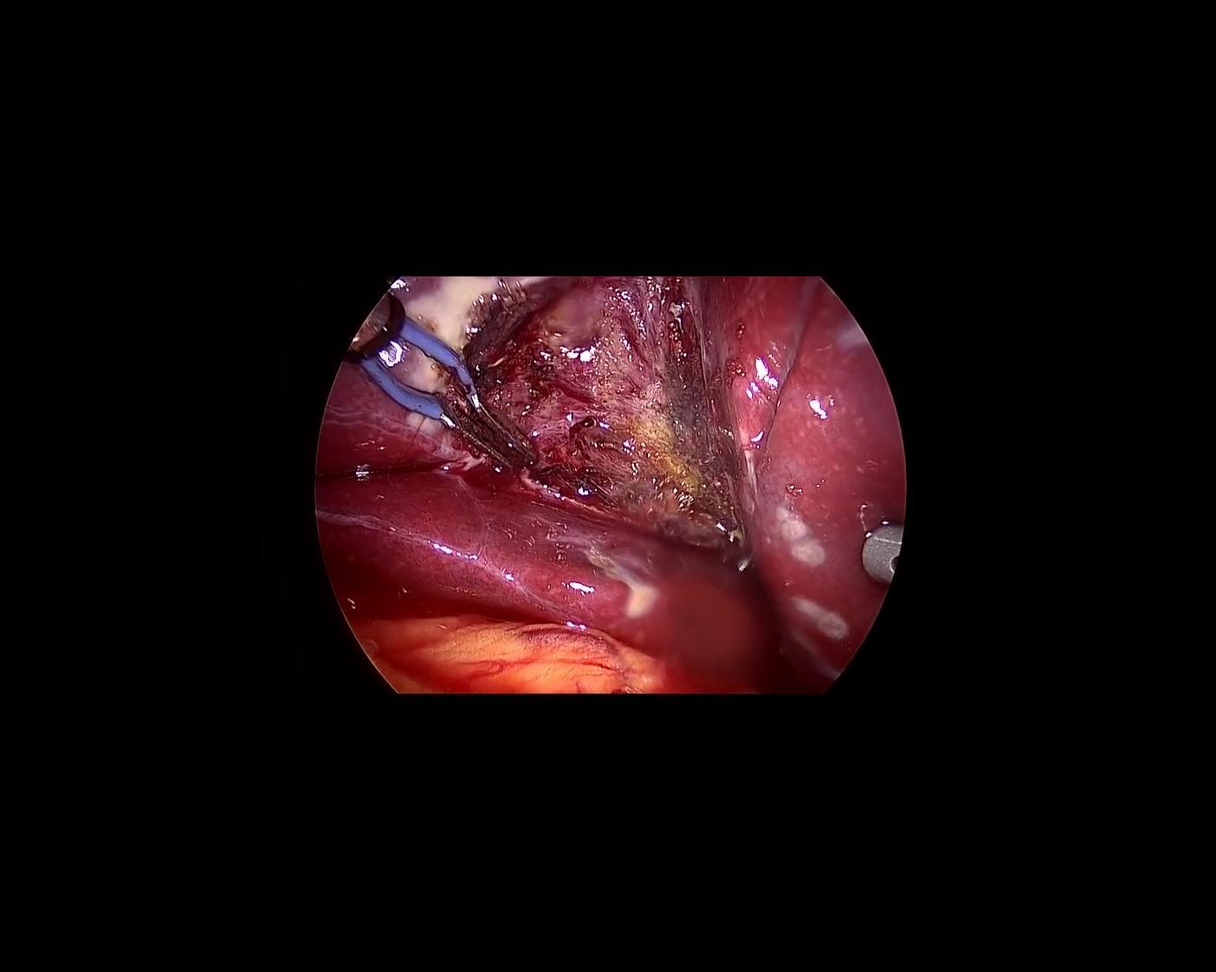Allis: (336, 290, 560, 500)
Liver: (291, 436, 792, 700), (686, 241, 951, 694)
